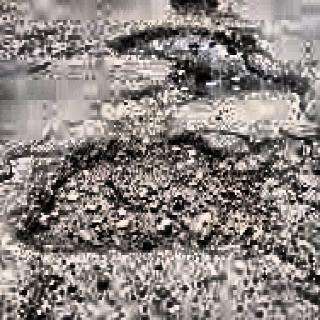pothole: (15, 122, 273, 264), (110, 21, 299, 98)
